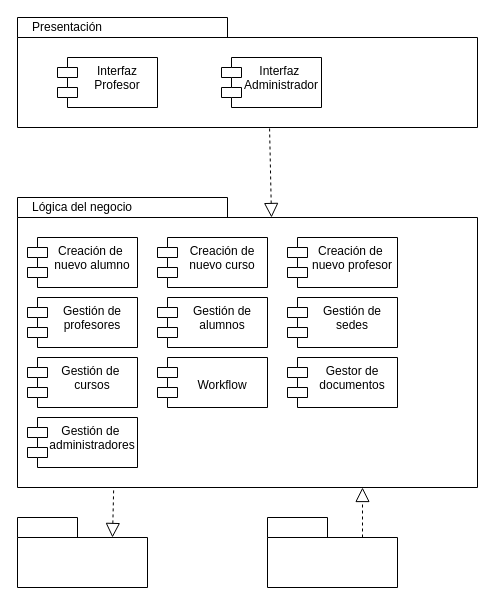
This 495x605 diagram has some shape labels left out. Each missing label, with the centre of its shape:
BBDD: (82,552)
Servicios: (332,552)
